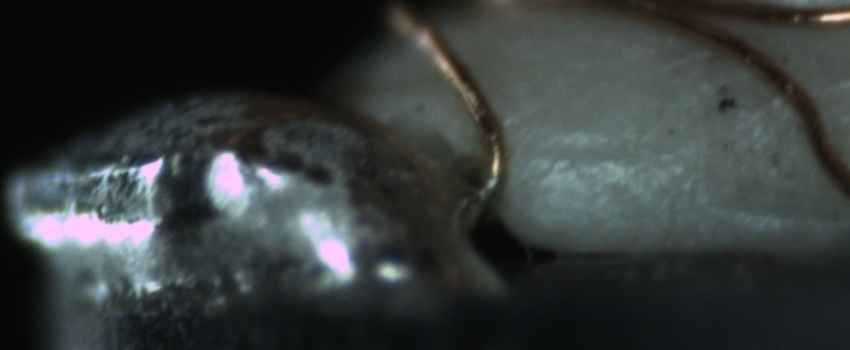DL: (520, 133, 688, 184)
